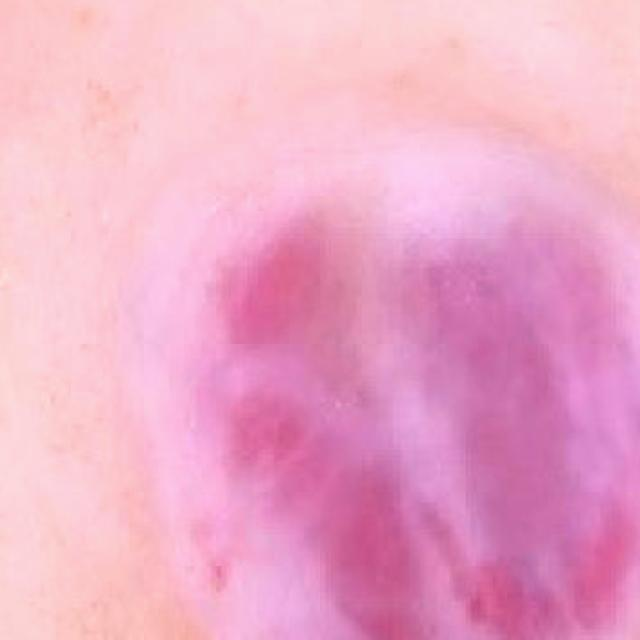VASC: (103, 114, 640, 640)
